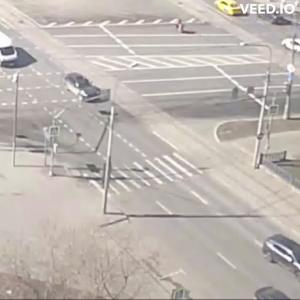car: (259, 229, 300, 276), (68, 73, 110, 105), (1, 31, 24, 71), (256, 286, 293, 300), (282, 39, 300, 52)
